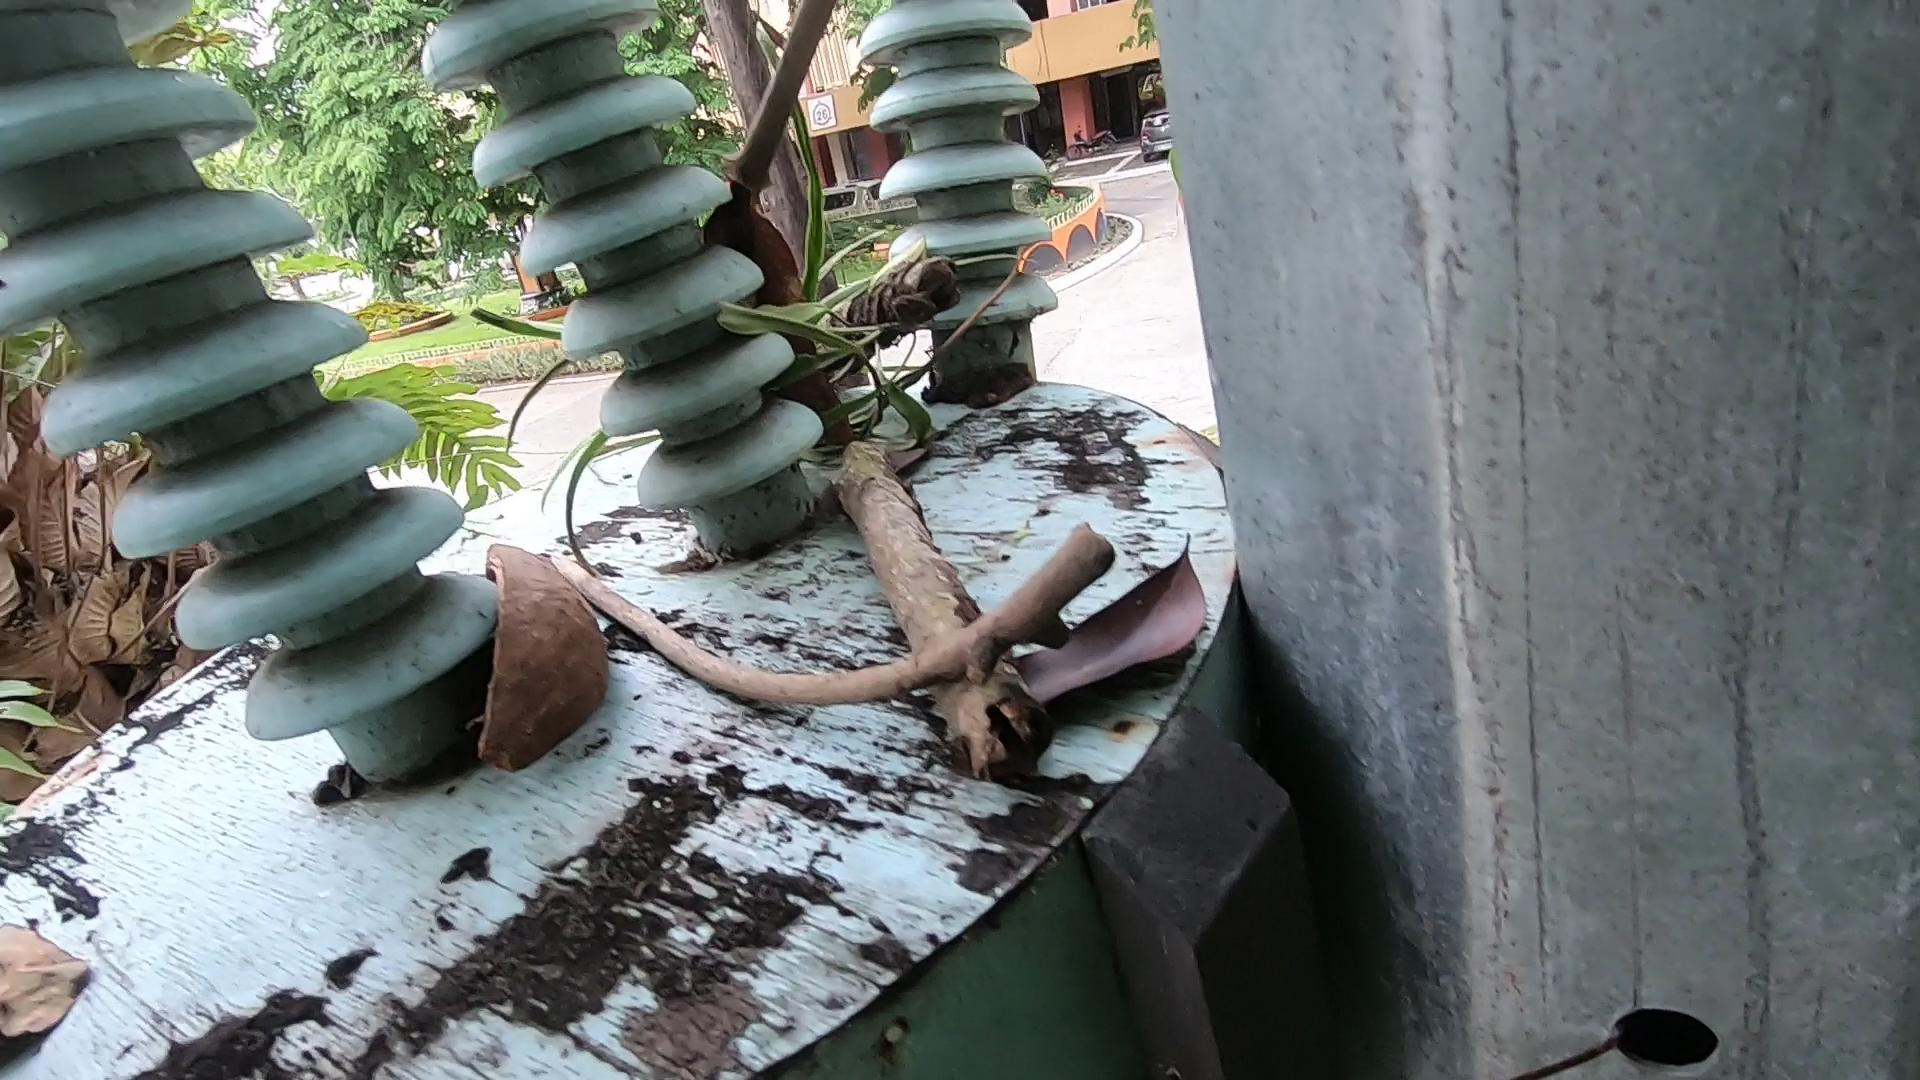branch with leaves: (724, 149, 1056, 844)
leaf: (975, 592, 1247, 790)
mahogany fruit: (703, 169, 870, 498), (429, 513, 603, 811)
tree branch: (533, 524, 1162, 840), (579, 1, 893, 179)
